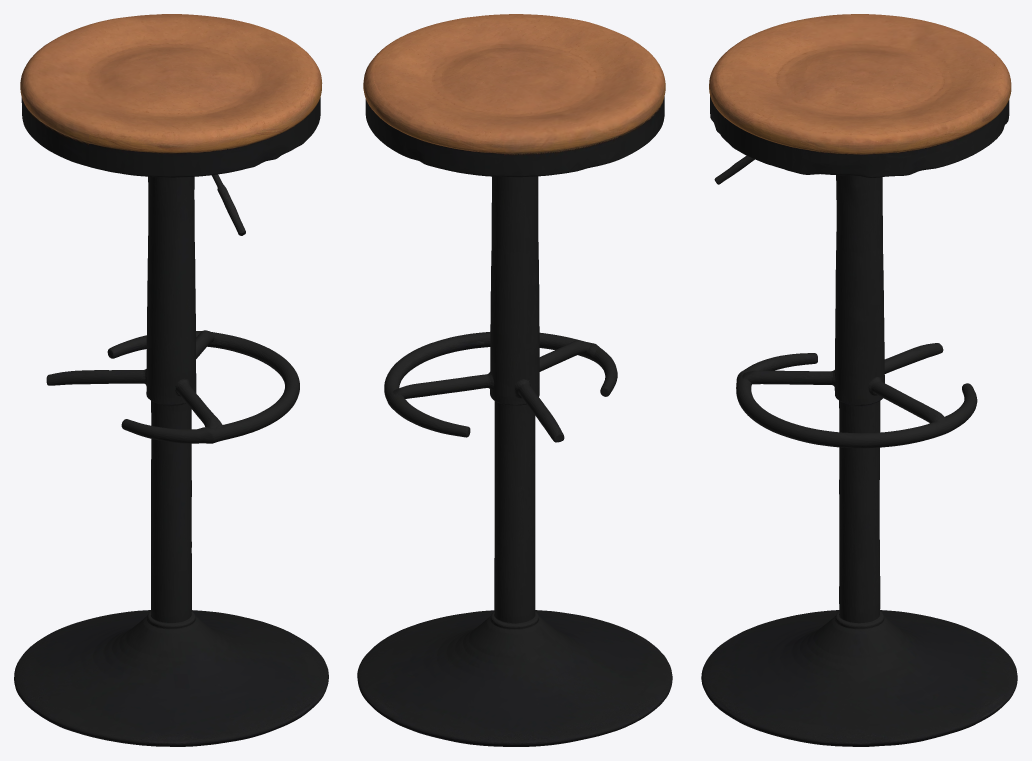
Rendered from ND-0951__https___northdeco_com_collections_taburetes_products_taburet_40.glb.
The picture shows the model from 3 angles, left to right: view 1: azimuth 30°, elevation 25°; view 2: azimuth 150°, elevation 25°; view 3: azimuth 270°, elevation 25°; orthographic projection.
Size of the model in its own units: 0.936 by 2 by 0.9374.
Materials: 1 (1 with a texture image).
